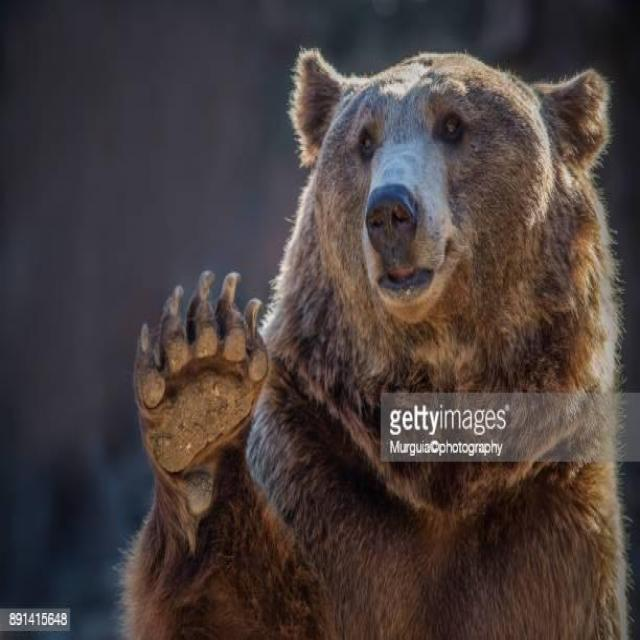Bear: (124, 48, 631, 640)
